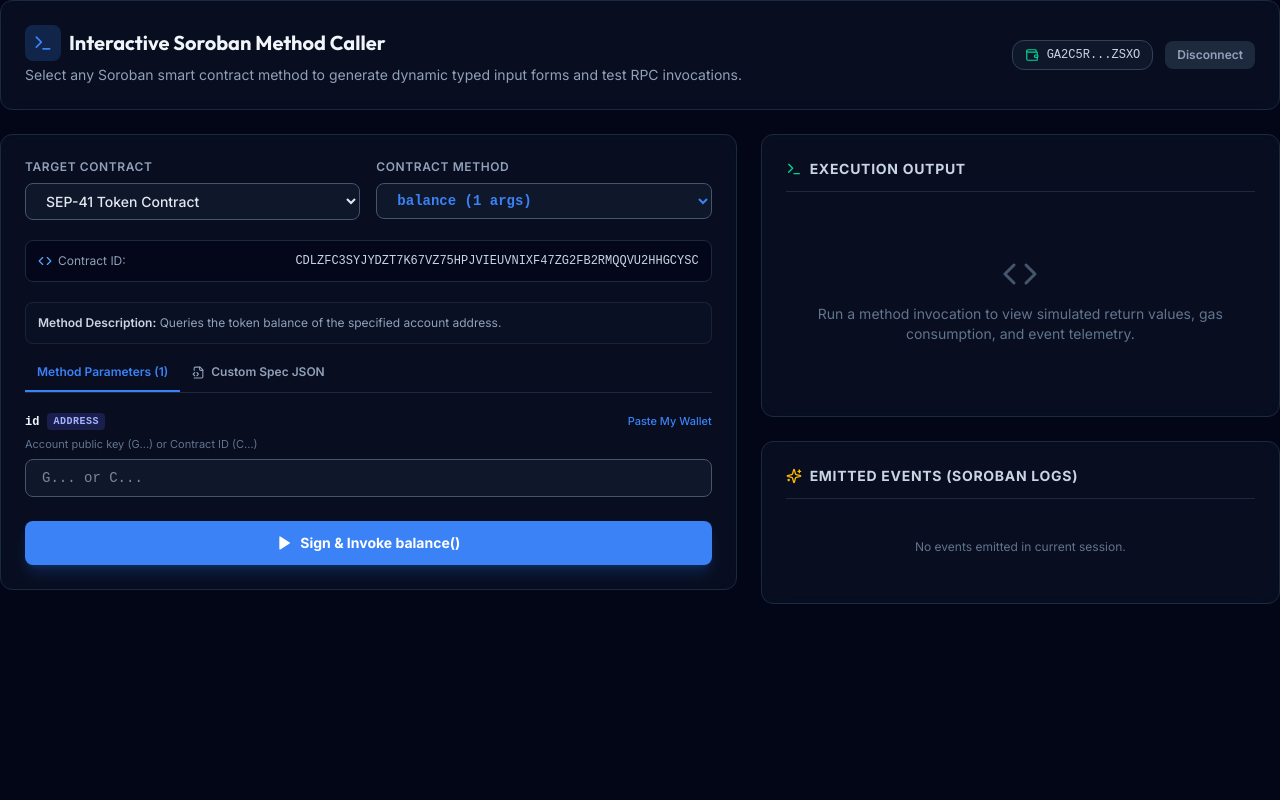
ContractPlayground - Interactive Soroban Contract Method Caller UI › ContractPlayground component UI & Form Generation › dynamically switches generated input fields when changing method to transfer (Address, Address, i128)
Select "transfer (3 args)" in the dropdown with test id "method-select" at (544, 201), box [376,183,712,219]
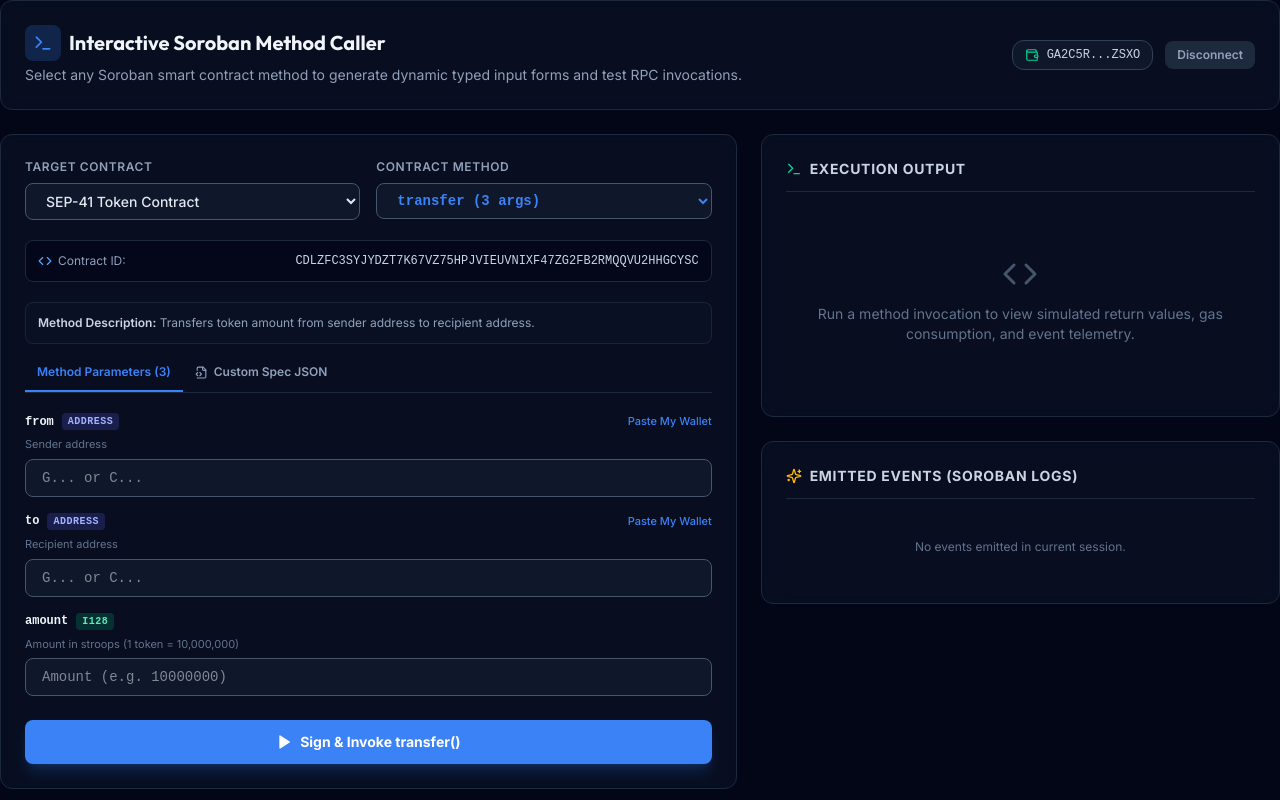
Expected: the element with test id "param-group-from" is shown, [25,413,712,497]
Expected: the text with test id "param-type-from" reads "Address", [68,416,113,427]
Expected: the element with test id "param-group-to" is shown, [25,513,712,597]
